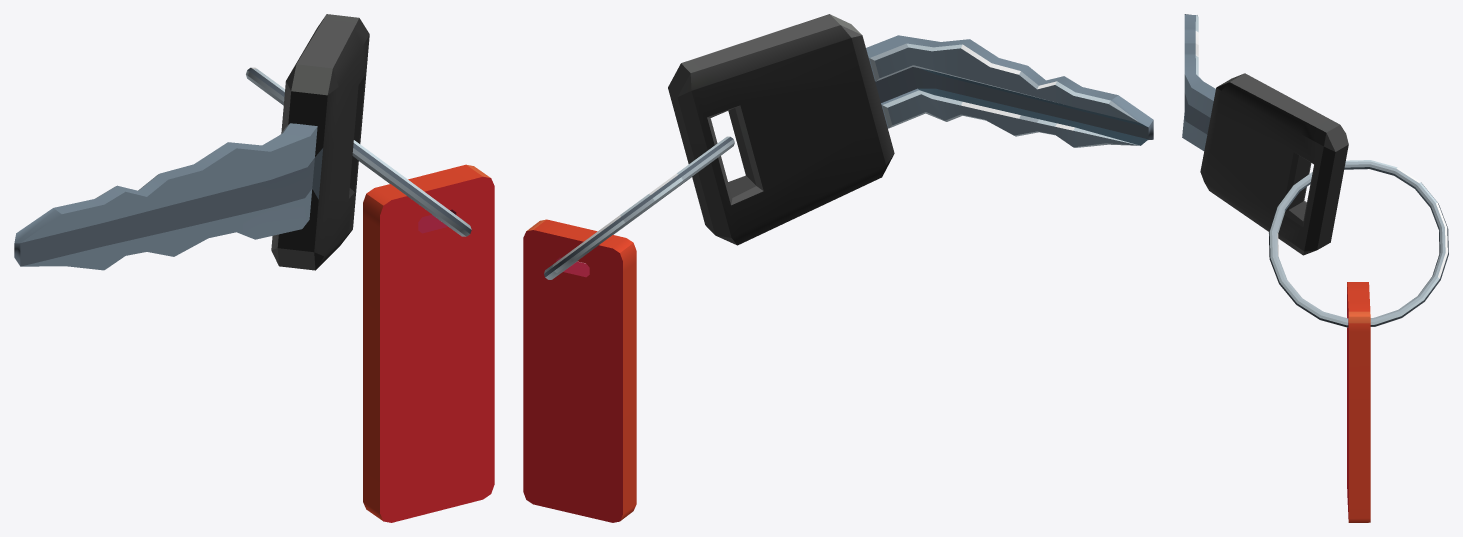
The model's file is PL_Assets_Z2KeyBROKEN.fbx.
The picture shows the model from 3 angles, left to right: view 1: azimuth 30°, elevation 25°; view 2: azimuth 150°, elevation 25°; view 3: azimuth 270°, elevation 25°; orthographic projection. The views are drawn at different scales.
Visible parts, largest first — view 1: pCube260, pCube259, pTorus11; view 2: pCube259, pCube260, pTorus11; view 3: pCube259, pCube260, pTorus11.
Part boxes in pixels (x1,y1,x2,y2): pCube260: (363,164,494,522); pCube259: (14,14,369,270); pTorus11: (246,67,471,236); pCube259: (668,14,1153,245); pCube260: (523,219,636,522); pTorus11: (544,136,734,279); pCube259: (1182,14,1348,255); pCube260: (1347,282,1370,522); pTorus11: (1269,160,1448,327).
Bounding box in the file's own units: 8.72 × 7.75 × 5.14.
